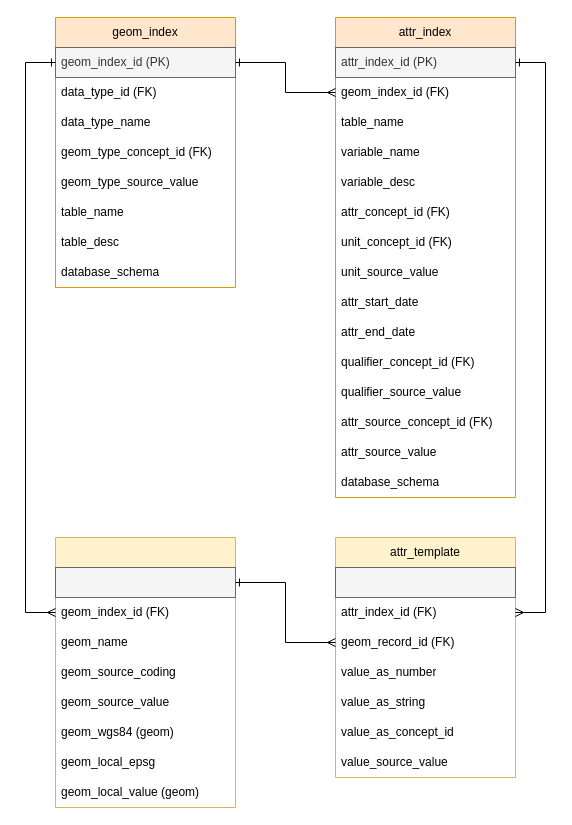
The diagram is 572 pixels wide and 825 high, and some of its shapes have lost their labels. The shapes that lost their labels are listed below. From the top down, each one's box as (x1, y1, x2, y2) in pixels, then its label:
(54, 566, 236, 598): geom_record_id (PK)
(334, 566, 516, 598): attr_record_id (PK)
(54, 536, 236, 808): geom_template
